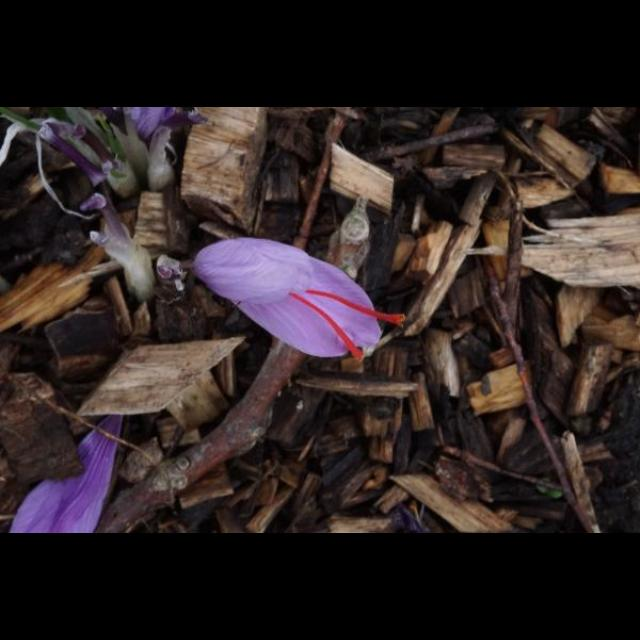flower: (186, 238, 407, 362)
